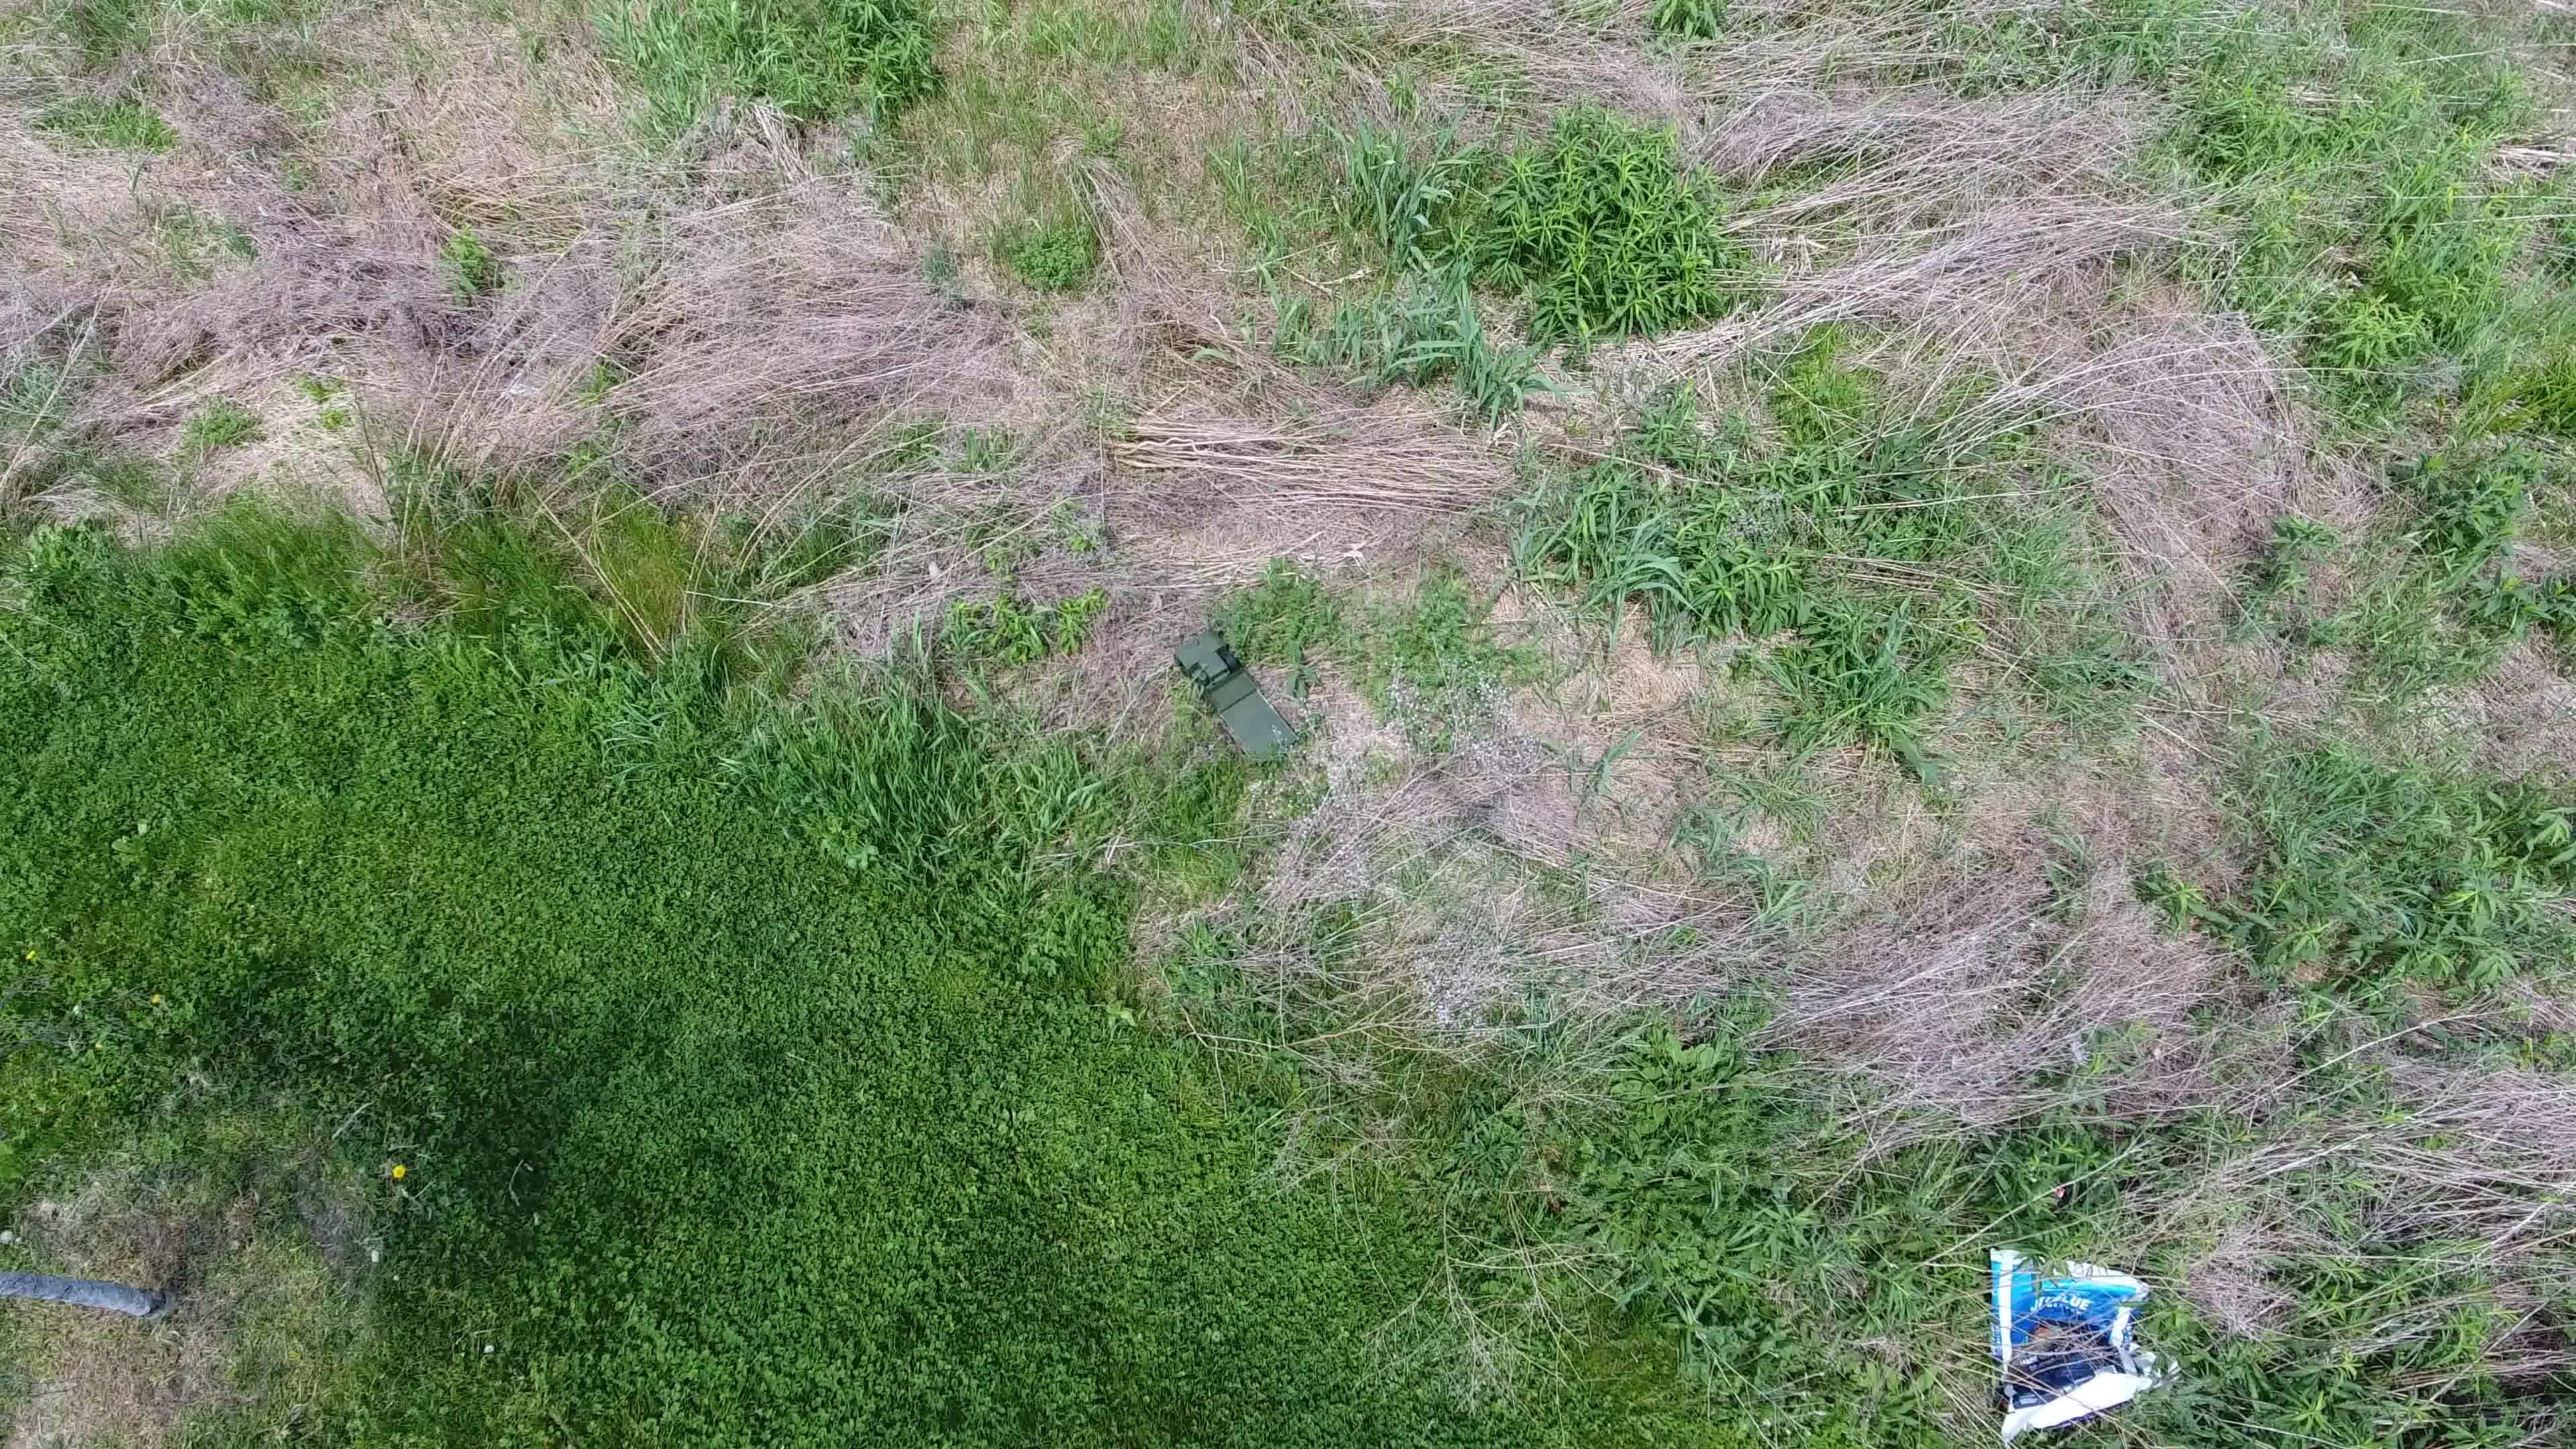transporter9: (1171, 625, 1302, 771)
